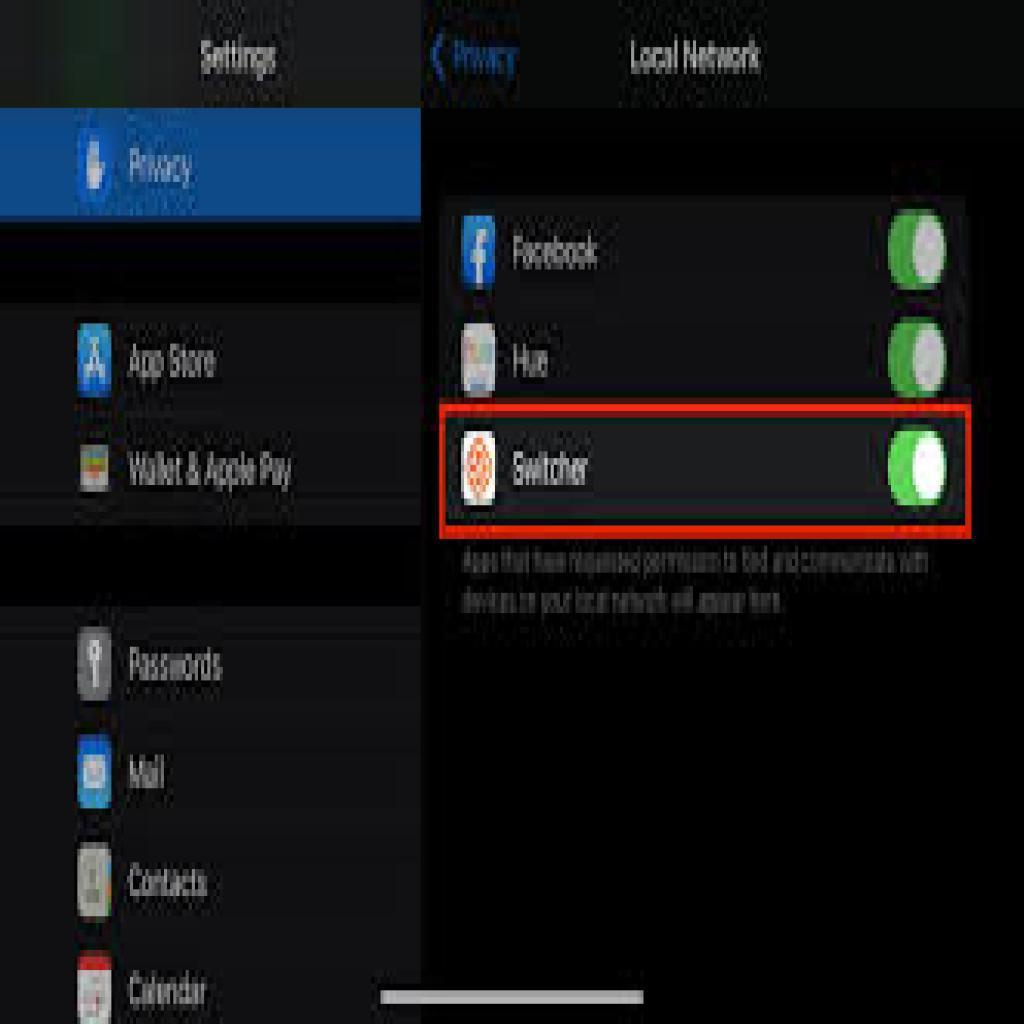switch: (887, 320, 948, 402), (887, 427, 950, 506), (890, 213, 949, 291)
